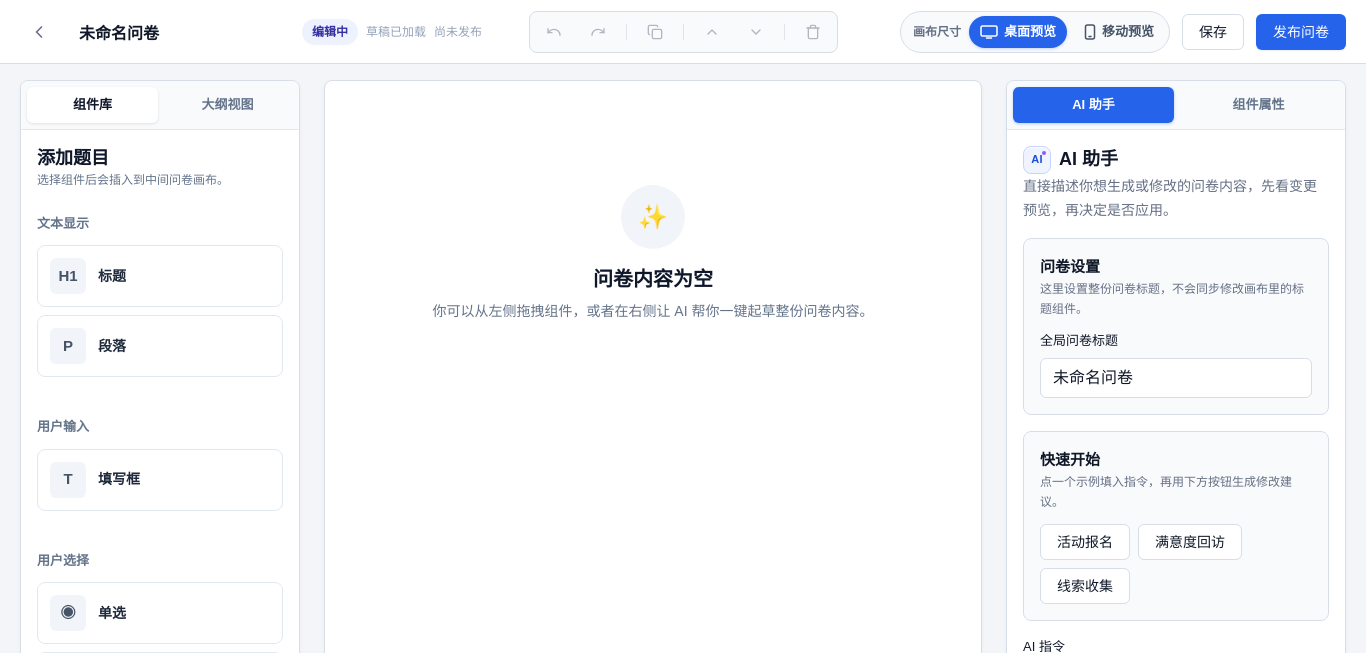
it: EditorWorkspace › autosaves document changes after local edits
The image size is (1366, 653).
Check: the heading "添加题目" is shown, box [37,148,109,168]
Step 1. Click the button "H1 标题" → click(160, 276), box [37,245,283,307]
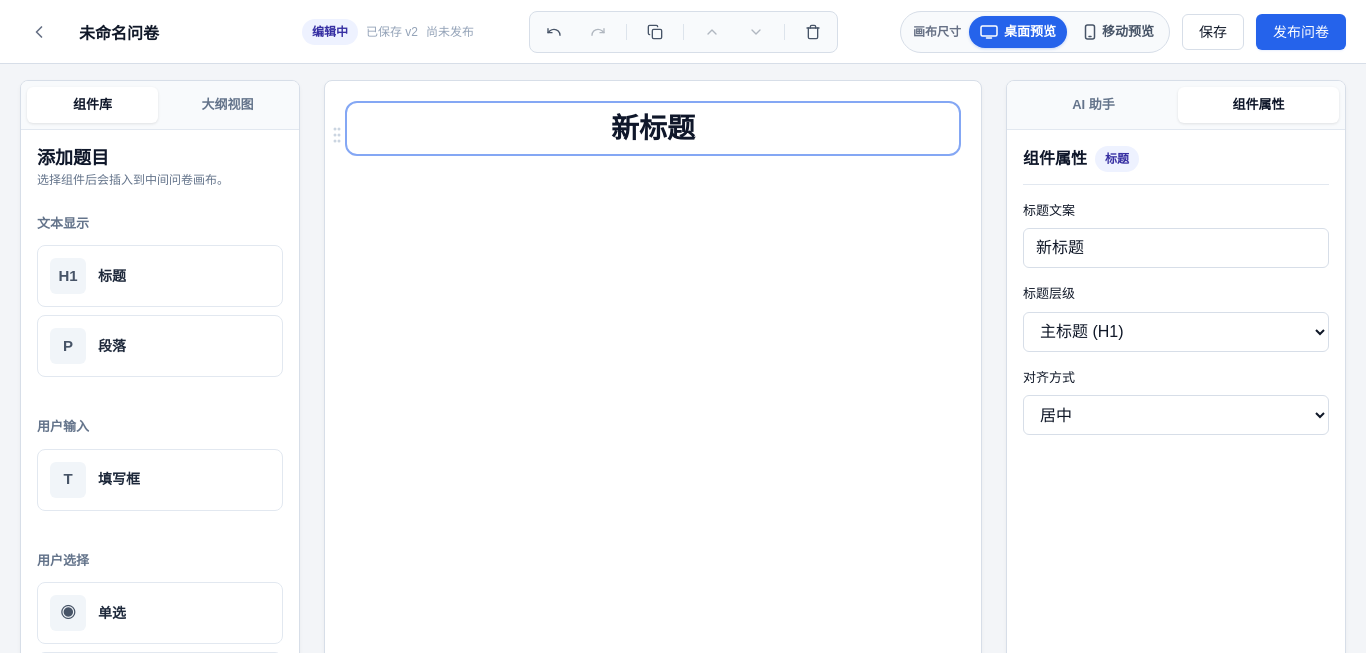
Check: the text "已保存 v2" is shown, box [366,24,418,40]
